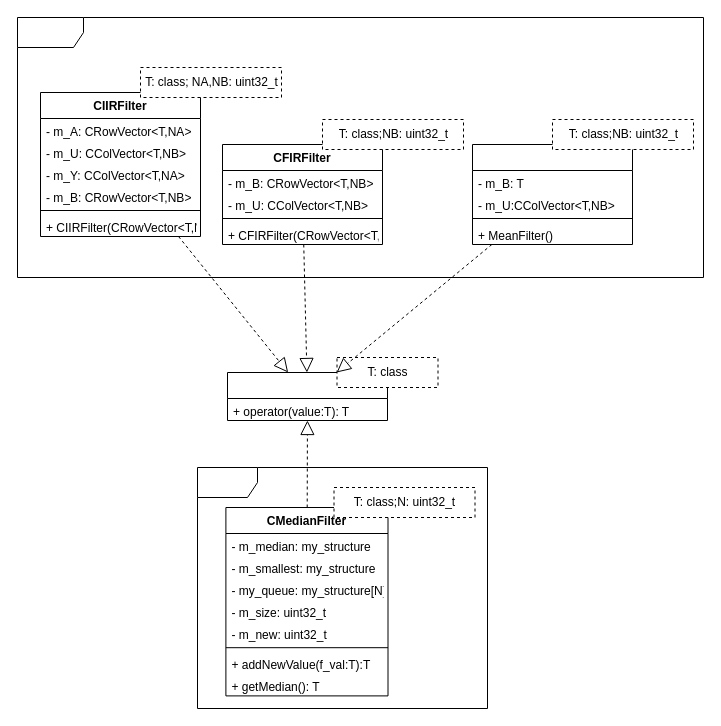
The diagram is 721 pixels wide and 726 high, and some of its shapes have lost their labels. The box of each missing label's shape, as (x1, y1, x2, y2) in pixels:
CMeanFilter: (472, 144, 632, 244)
IFilter: (226, 372, 388, 420)
lti:siso: (16, 16, 704, 278)
nlti::siso: (196, 466, 488, 708)
